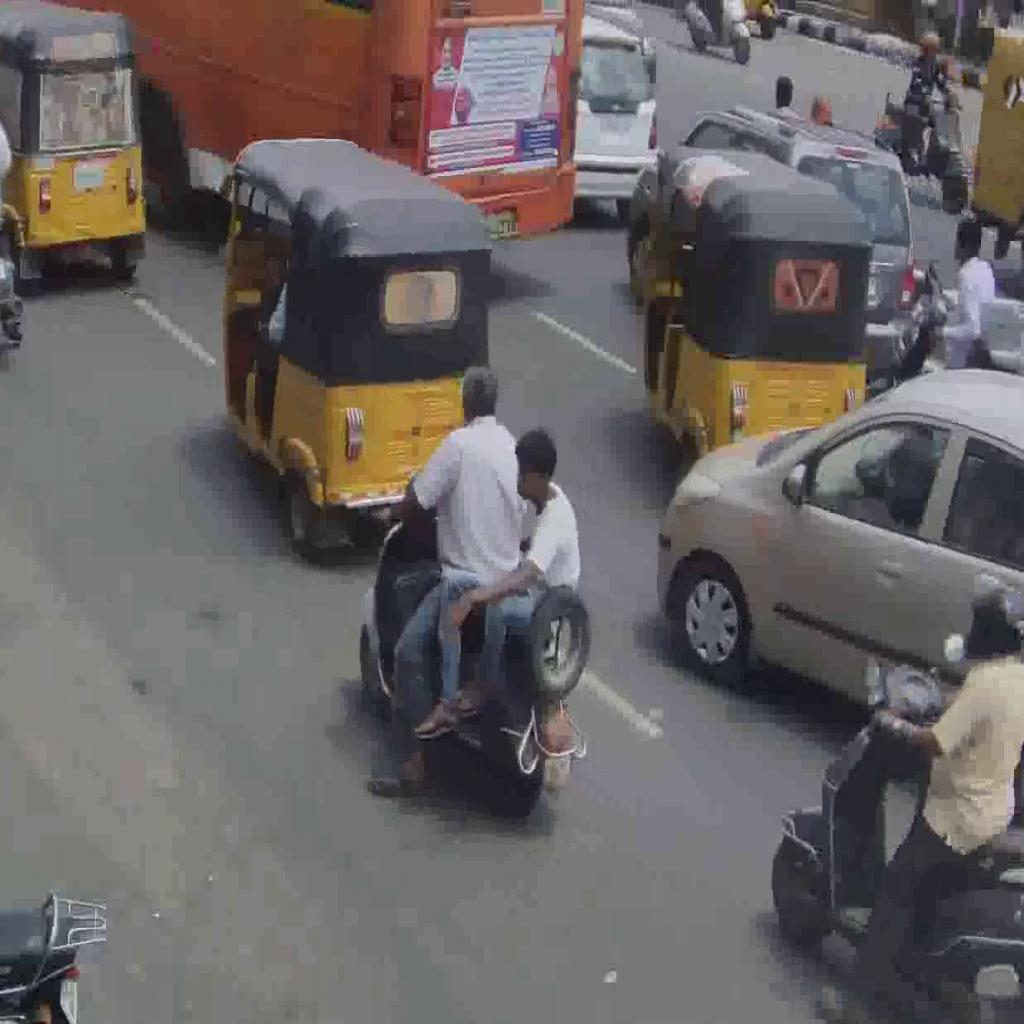helmet: (770, 660, 1024, 1024), (358, 470, 592, 816)
